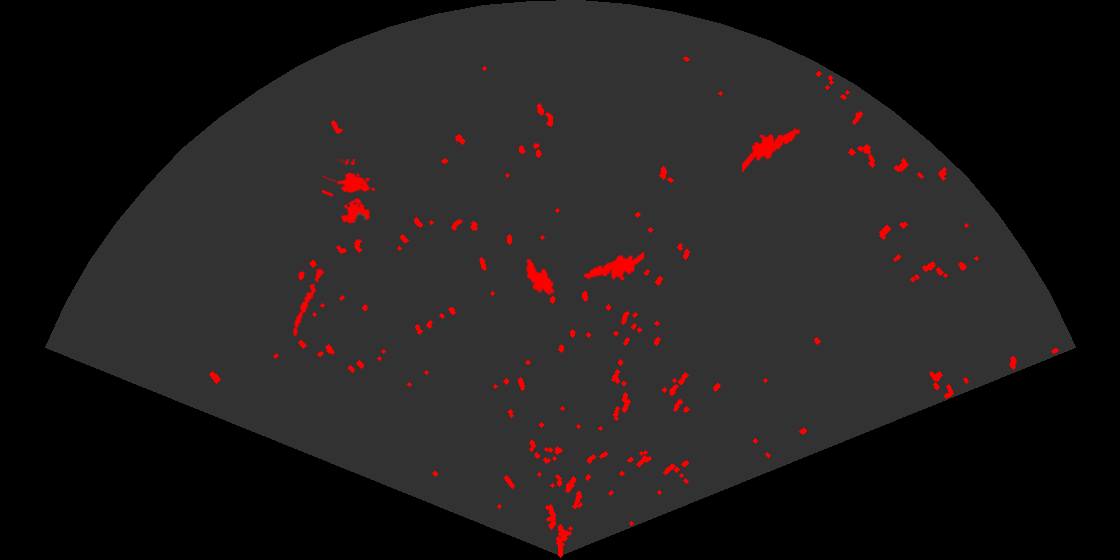AUV: (524, 257, 556, 297)
cage: (322, 159, 377, 225)
chain: (291, 261, 327, 339)
frogman: (742, 127, 802, 173), (582, 250, 644, 282)
